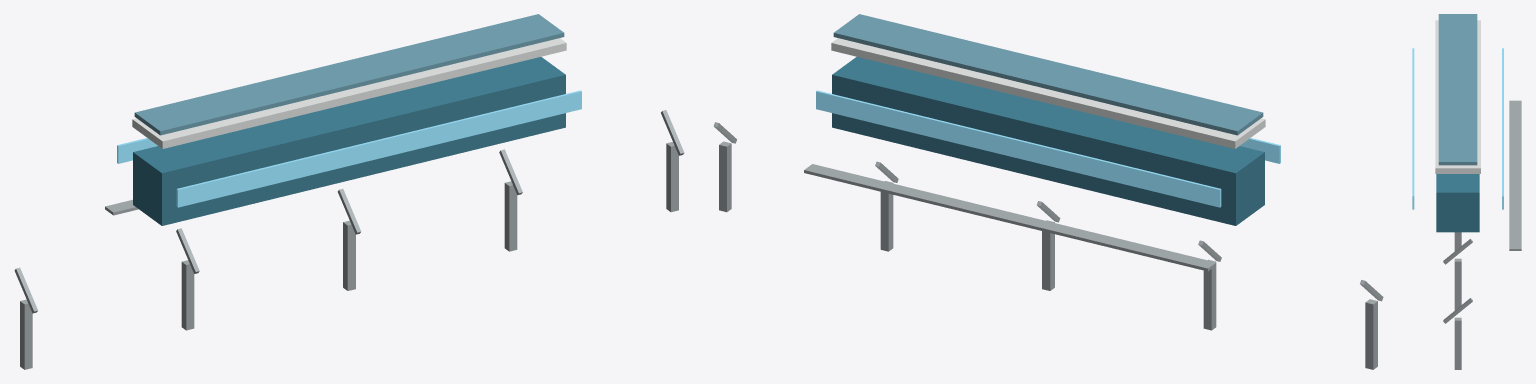
The model's file is belt-gallery.glb.
3 renders of one model, left to right at view 1: azimuth 30°, elevation 25°; view 2: azimuth 150°, elevation 25°; view 3: azimuth 270°, elevation 25°, orthographic. The views are drawn at different scales.
Visible parts, largest first — view 1: BeltGallery; view 2: BeltGallery; view 3: BeltGallery.
Boxes of the visible parts, x1=… form: BeltGallery: x1=14, y1=14, x2=684, y2=369; BeltGallery: x1=713, y1=14, x2=1383, y2=369; BeltGallery: x1=1412, y1=14, x2=1521, y2=369.
Bounding box in the file's own units: 8.1 × 2.55 × 1.56.
